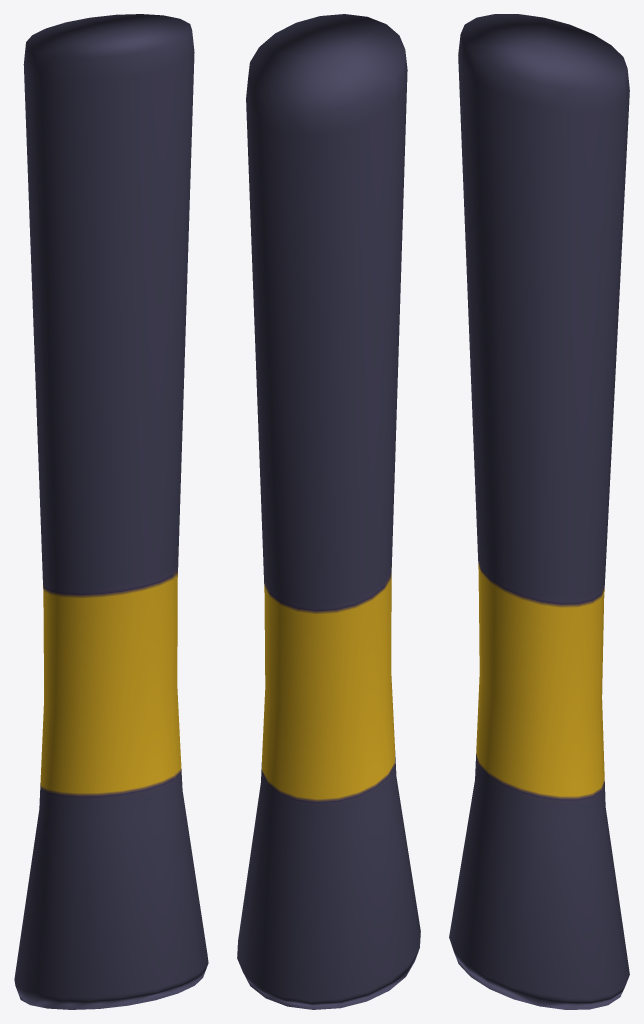
File: long_hat.fbx
The picture shows the model from 3 angles, left to right: view 1: azimuth 30°, elevation 25°; view 2: azimuth 150°, elevation 25°; view 3: azimuth 270°, elevation 25°; orthographic projection. The views are drawn at different scales.
Parts seen in each view (by area): view 1: SkeletalMeshActor_0.001; view 2: SkeletalMeshActor_0.001; view 3: SkeletalMeshActor_0.001.
Part boxes in pixels (<box>): SkeletalMeshActor_0.001: <box>14,14,208,1009</box>; SkeletalMeshActor_0.001: <box>237,14,420,1009</box>; SkeletalMeshActor_0.001: <box>449,14,629,1009</box>.
Bounding box in the file's own units: 38.65 × 212 × 36.43.
